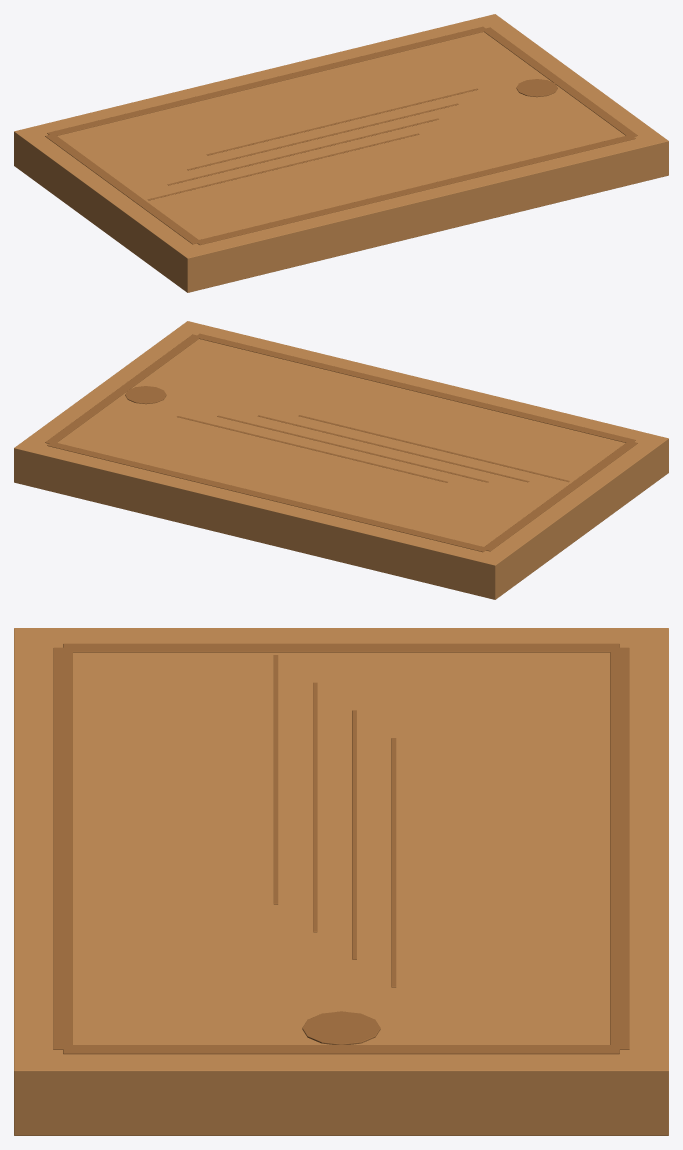
File: CuttingBoard.glb
3 renders of one model, top to bottom at view 1: azimuth 30°, elevation 25°; view 2: azimuth 150°, elevation 25°; view 3: azimuth 270°, elevation 25°, orthographic. The views are drawn at different scales.
Visible parts, largest first — view 1: CuttingBoard; view 2: CuttingBoard; view 3: CuttingBoard.
Part boxes in pixels (x1=…): CuttingBoard: x1=14, y1=14, x2=668, y2=292; CuttingBoard: x1=14, y1=321, x2=668, y2=599; CuttingBoard: x1=14, y1=628, x2=668, y2=1135.
Bounding box in the file's own units: 0.32 × 0.0225 × 0.2.
